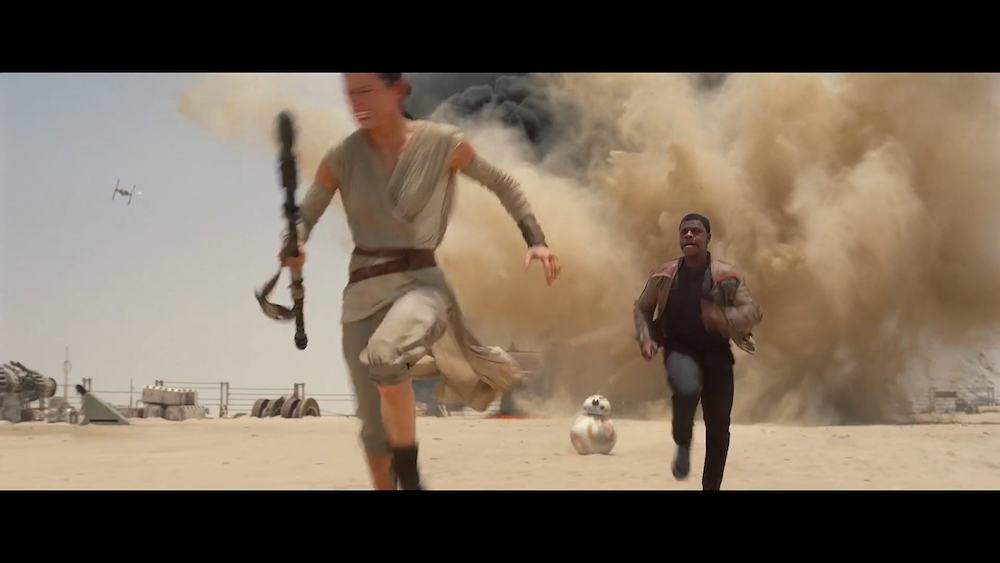Tie Fighter: (112, 179, 137, 206)
